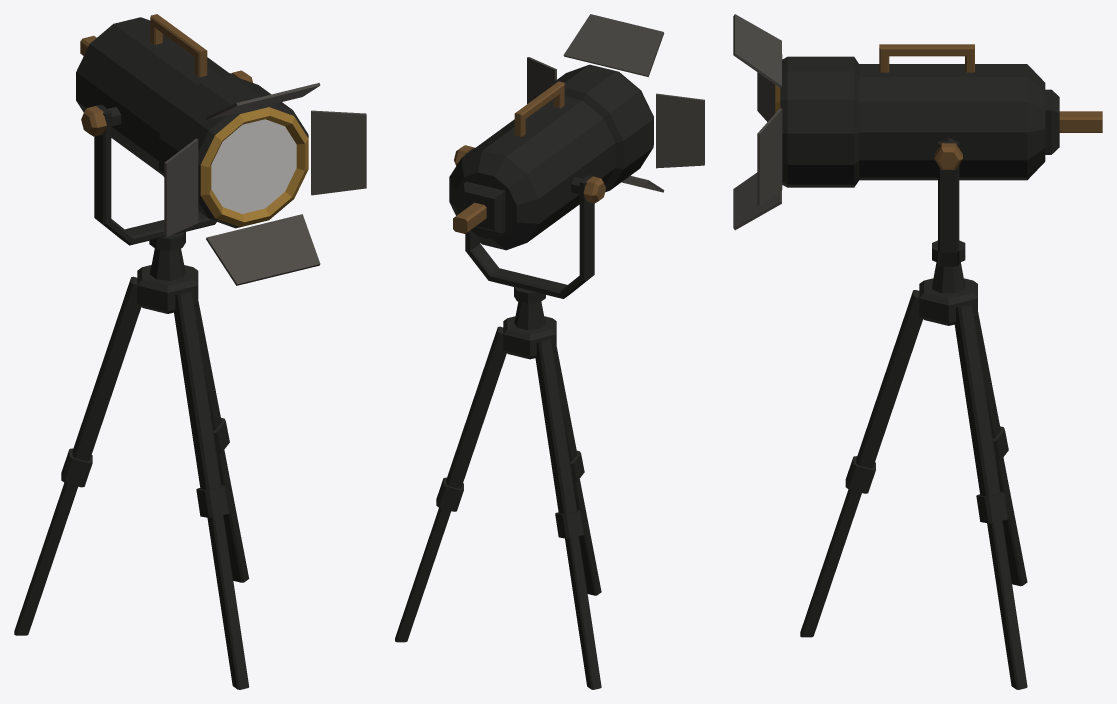
File: follow-spot-6795ee.glb
3 views of the same model, side by side, from view 1: azimuth 30°, elevation 25°; view 2: azimuth 150°, elevation 25°; view 3: azimuth 270°, elevation 25° (orthographic). The views are drawn at different scales.
Parts seen in each view (by area): view 1: head, stand, yoke; view 2: head, stand, yoke; view 3: head, stand, yoke.
Part boxes in pixels (x1,y1,x2,y2): head: (76, 14, 366, 285); stand: (14, 248, 249, 689); yoke: (81, 70, 252, 250); head: (449, 14, 704, 250); stand: (395, 301, 601, 689); yoke: (454, 145, 605, 303); head: (733, 14, 1102, 230); stand: (800, 262, 1027, 689); yoke: (932, 141, 965, 266).
Size of the model in its own units: 0.7317 by 1.85 by 1.03.
